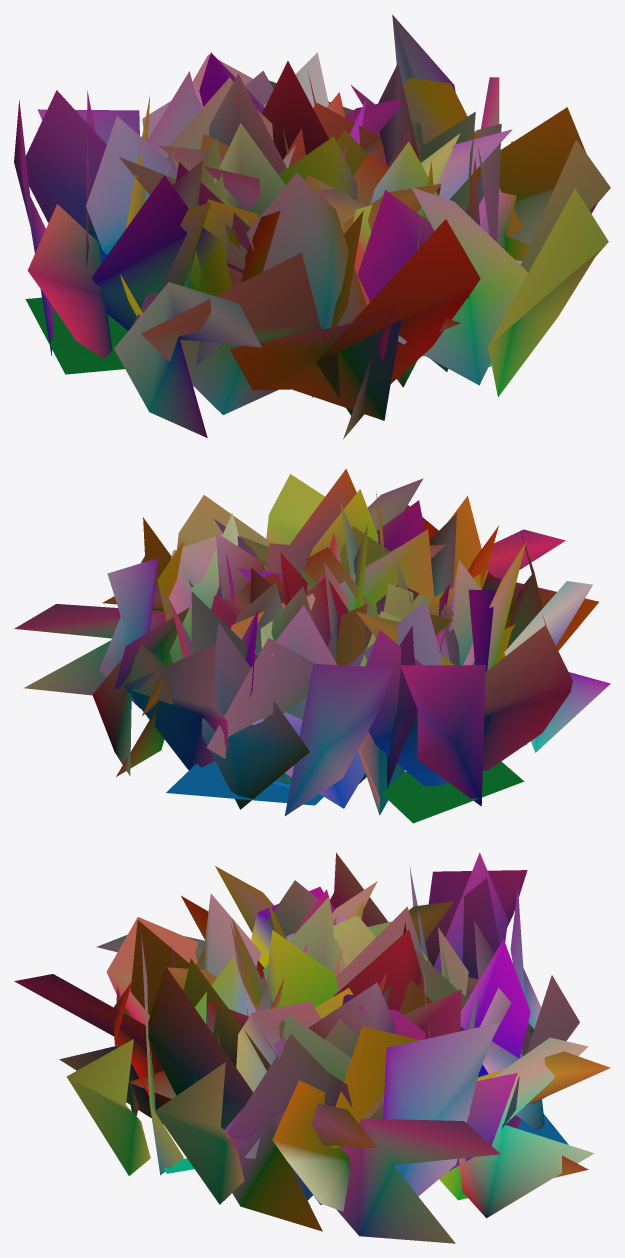
File: Kikuyu_Grass_wiljearqx_High_wiljearqx_VarF_LOD2.fbx
The picture shows the model from 3 angles, top to bottom: view 1: azimuth 30°, elevation 25°; view 2: azimuth 150°, elevation 25°; view 3: azimuth 270°, elevation 25°; orthographic projection. The views are drawn at different scales.
Visible parts, largest first — view 1: _8yhw_VarF_LOD5; view 2: _8yhw_VarF_LOD5; view 3: _8yhw_VarF_LOD5.
Part boxes in pixels (x1,y1,x2,y2): _8yhw_VarF_LOD5: [14, 14, 610, 439]; _8yhw_VarF_LOD5: [14, 469, 610, 823]; _8yhw_VarF_LOD5: [14, 852, 610, 1243].
Size of the model in its own units: 87.38 by 34.84 by 85.22.
